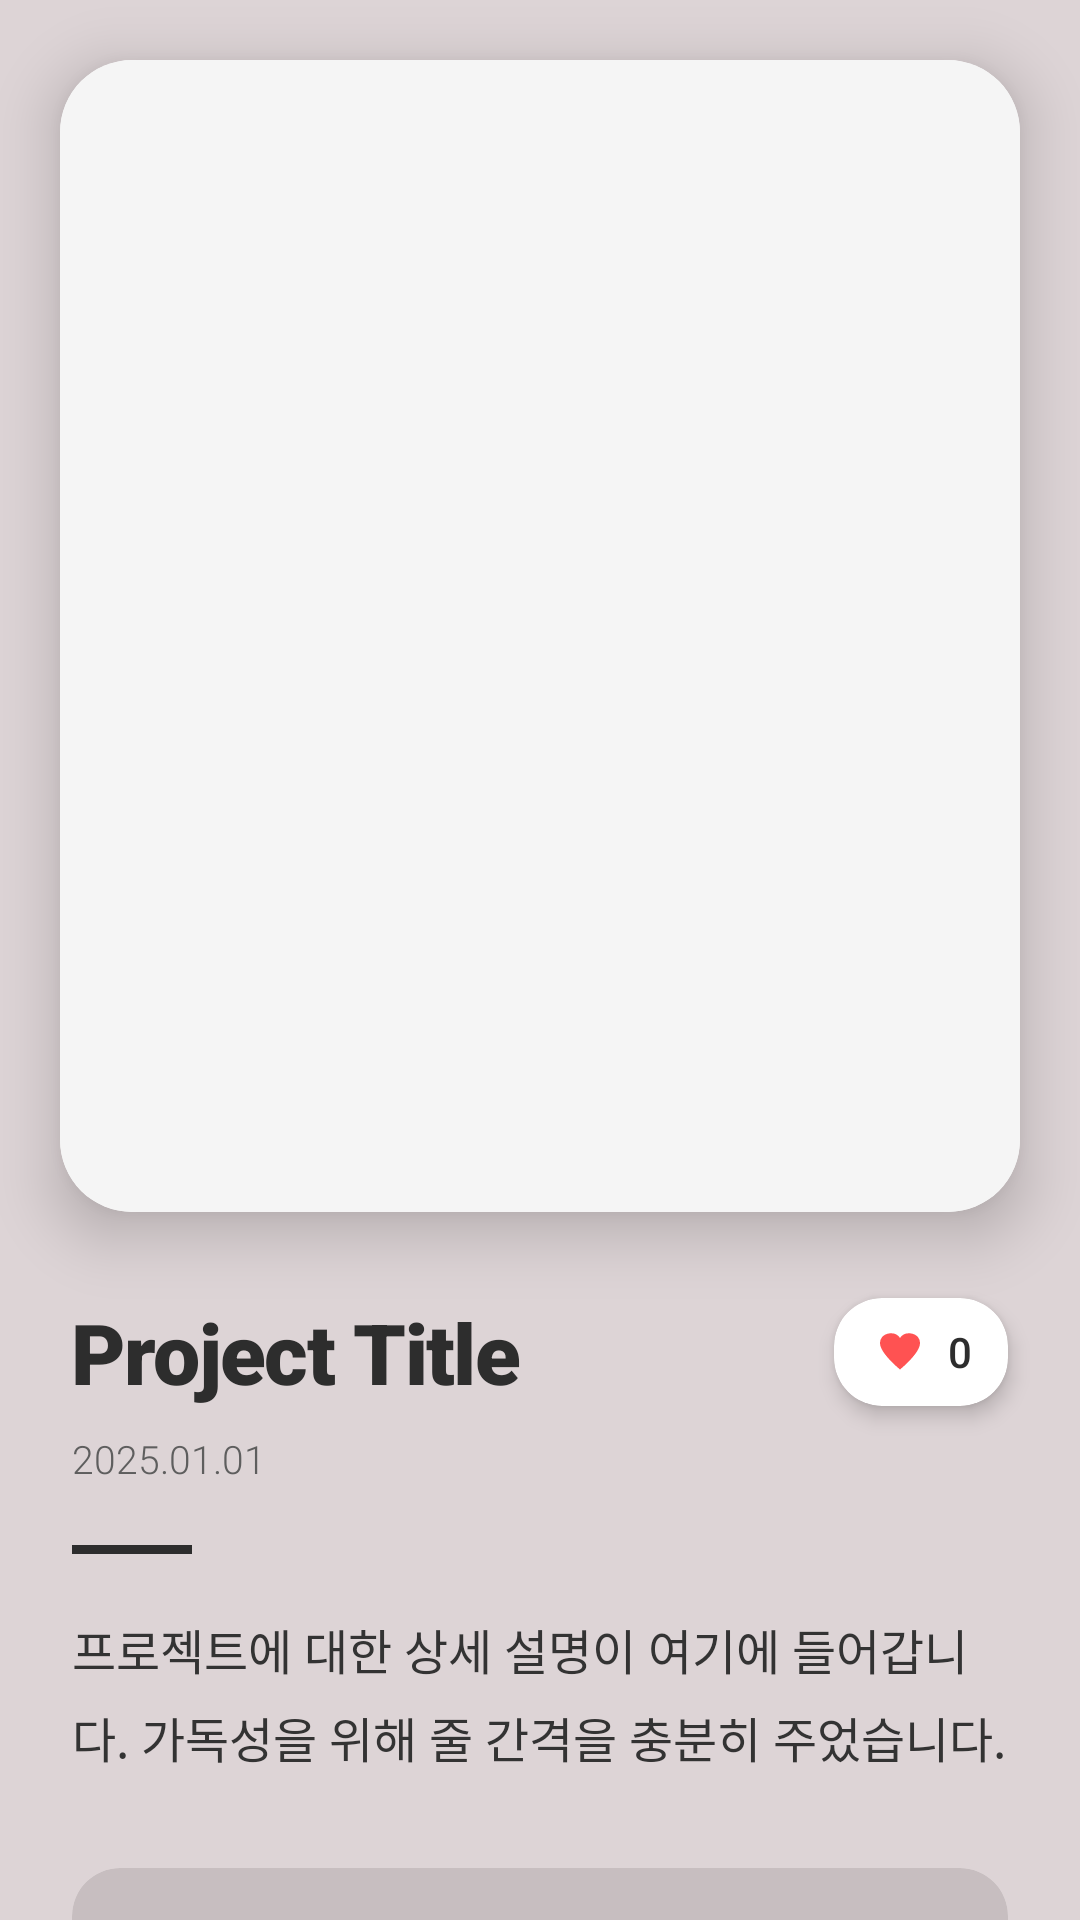

Screen size 1080 × 1920. Icon name, then its center in pixels as [x,y]:
heart: [900,1351]
